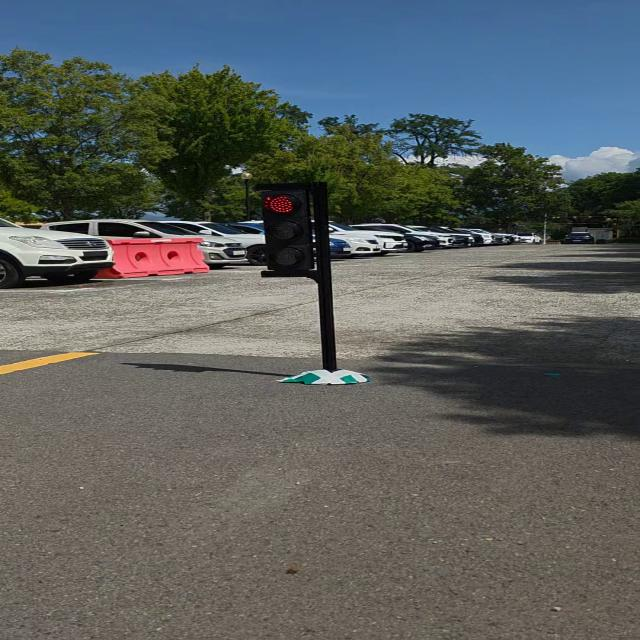red: (250, 182, 317, 278)
